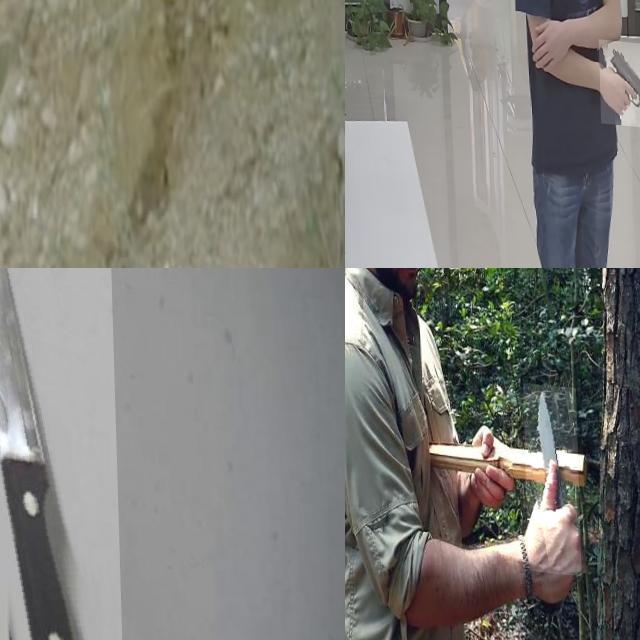-: (0, 268, 123, 640), (522, 374, 578, 566)
gun-knife-thesis - v11 Yolov5 augmented: (597, 32, 640, 121)
